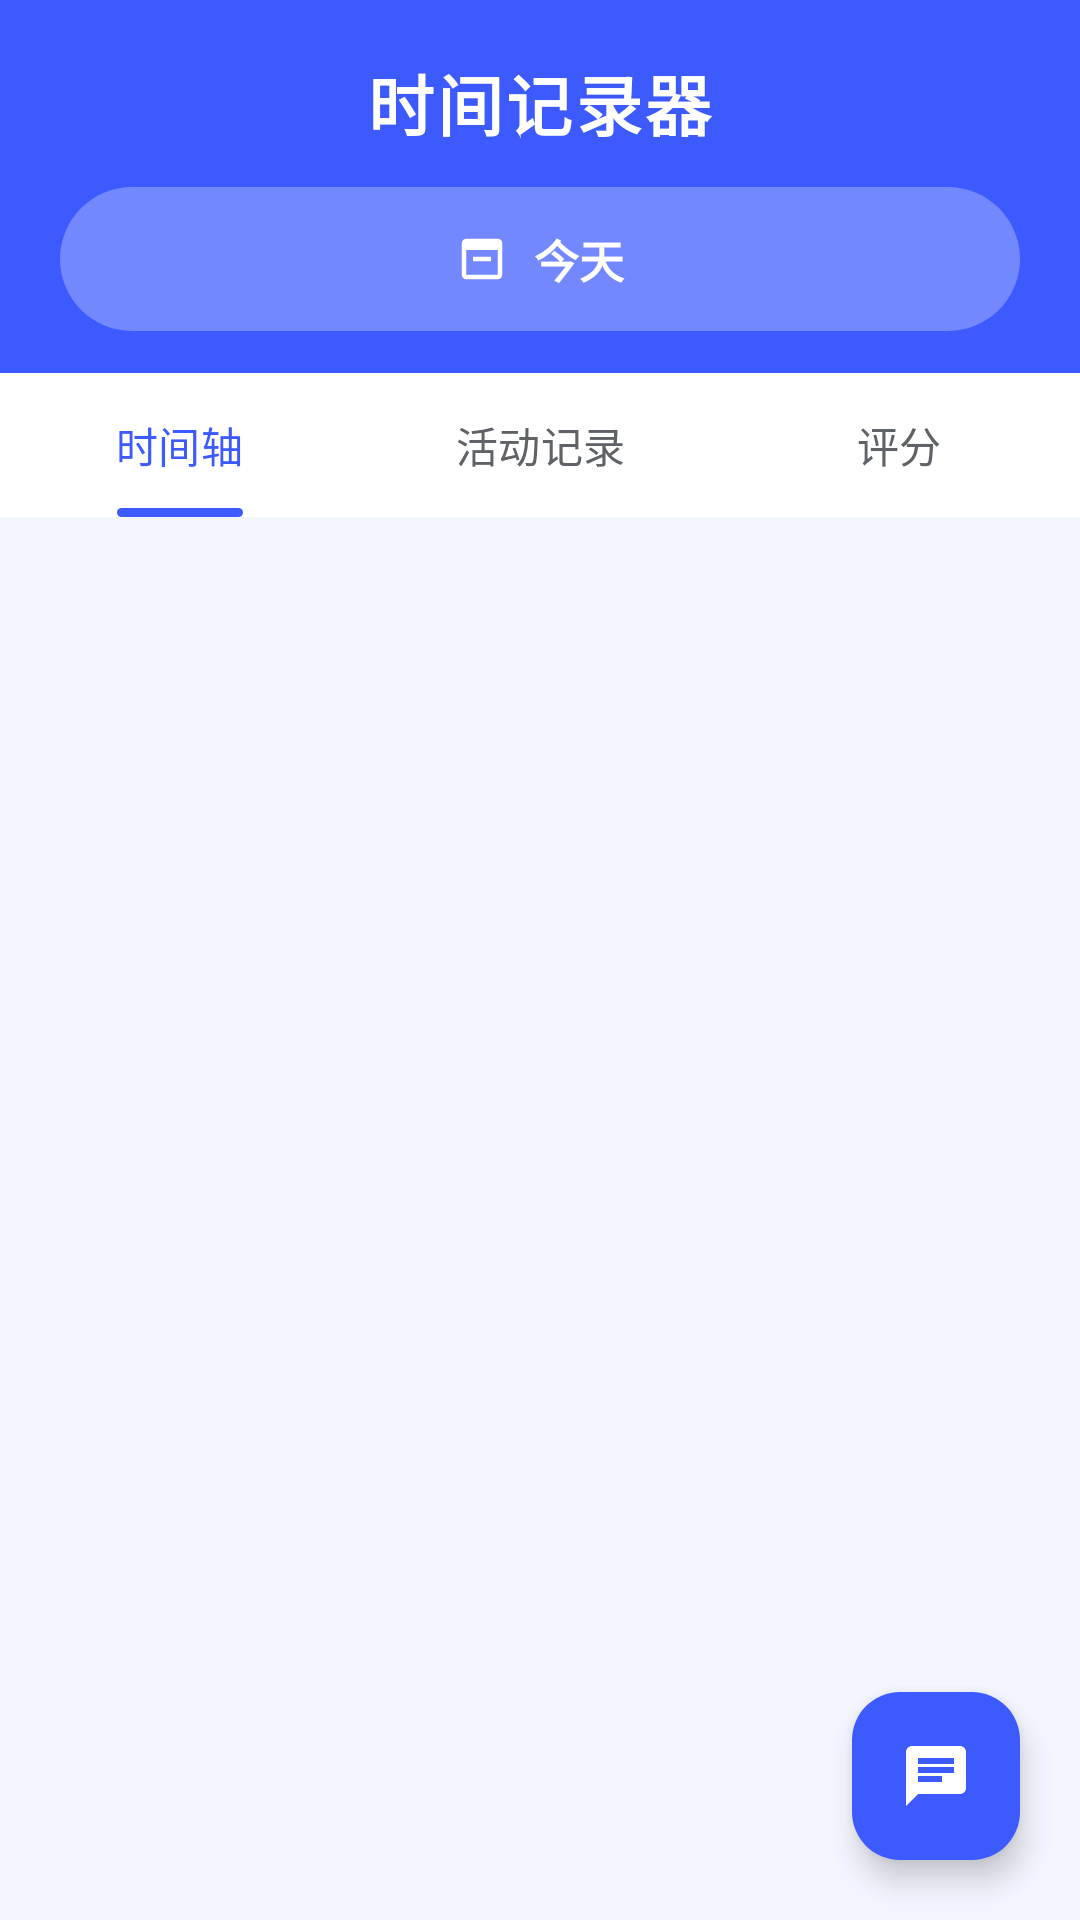

Icon bounding boxes for this 1080px x 1920px phone screenshot, format (x1, y1, x2, y2):
AI 助手: (852, 1692, 1020, 1860)
